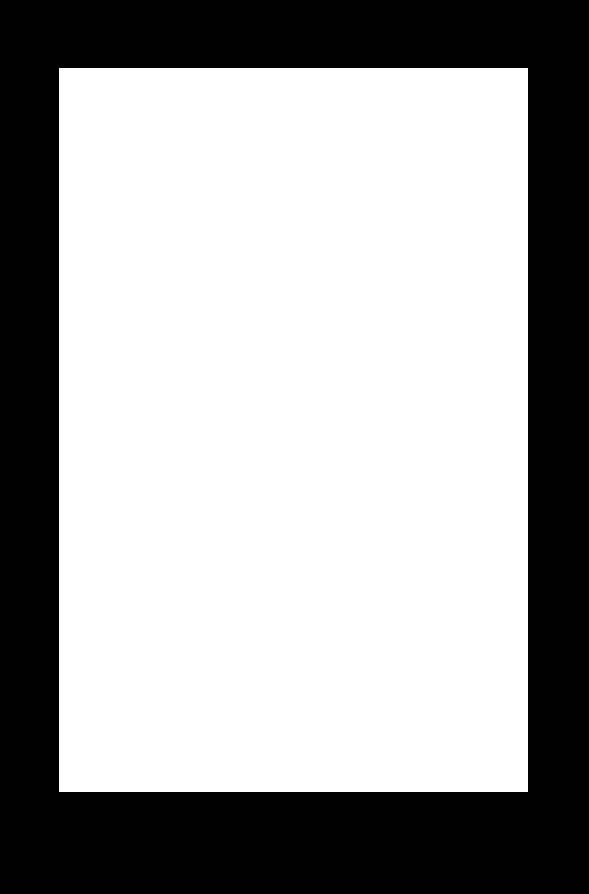table: (59, 68, 527, 791)
